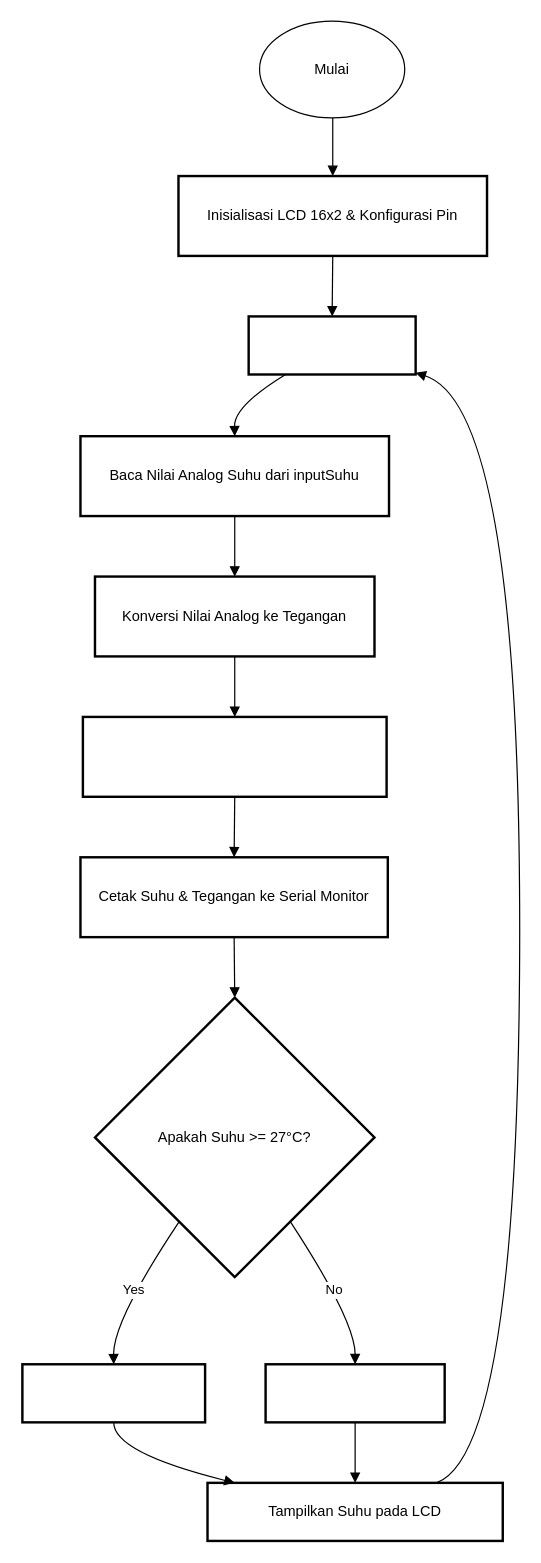
This 541x1563 diagram has some shape labels left out. The shapes that lost their labels are listed below. From the top down, each one's centre as x and y in pixels, then its label:
At (331,345): "Mulai Loop".
At (234,756): "Konversi Tegangan ke Suhu dalam °C".
At (113,1392): "Set LED High".
At (354,1392): "Set LED Low".
